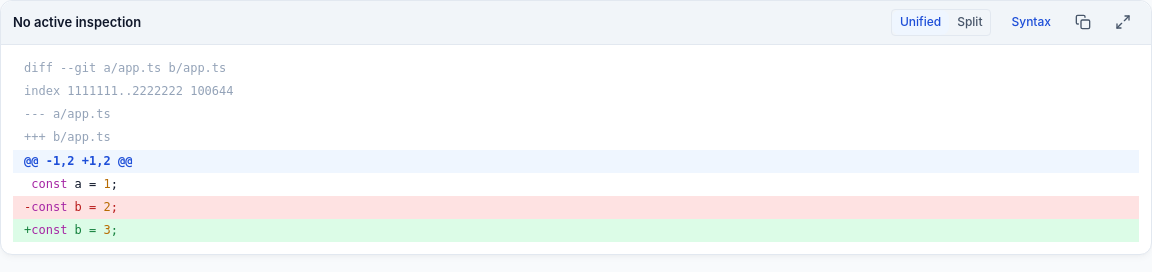
Test: DiffViewer (syntax highlight + toolbar) › does not apply hljs markup when syntax highlight is toggled off
Click the button "Syntax": [1031, 22] box 1004,10 -> 1059,35
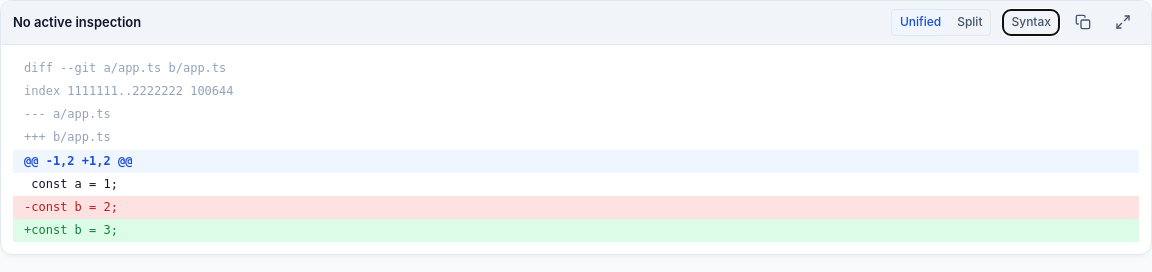
Expected: the text with class "hljs-keyword" is gone
